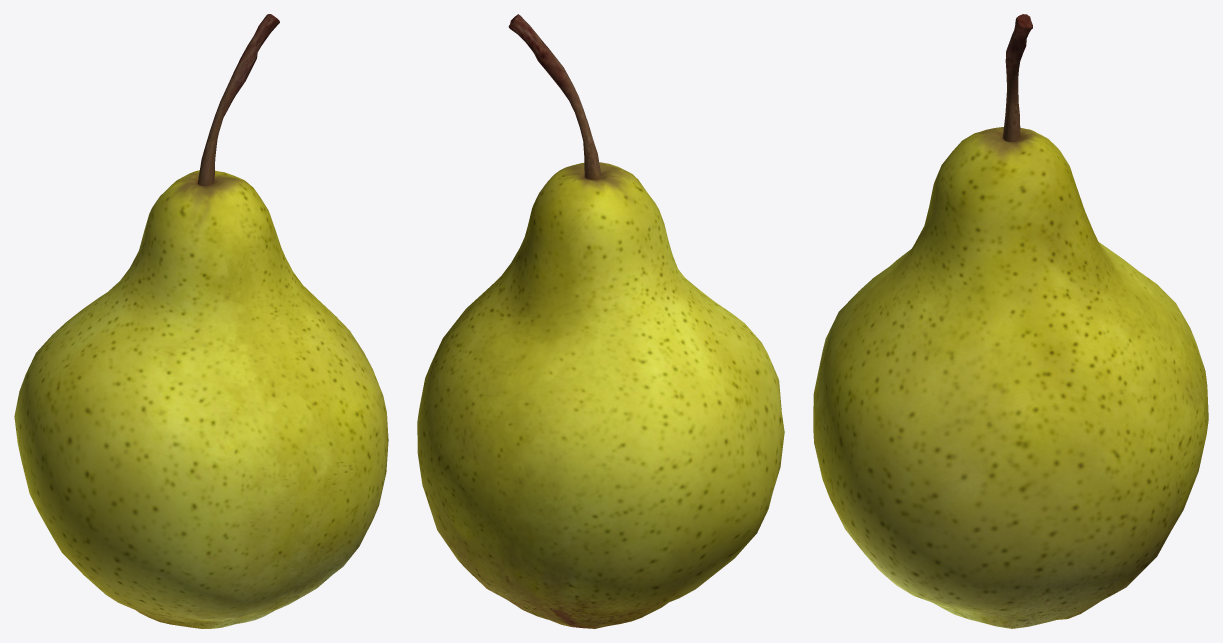
Rendered from pear.obj.
3 views of the same model, side by side, from view 1: azimuth 30°, elevation 25°; view 2: azimuth 150°, elevation 25°; view 3: azimuth 270°, elevation 25° (orthographic). The views are drawn at different scales.
Parts seen in each view (by area): view 1: pear.002_Cube.002; view 2: pear.002_Cube.002; view 3: pear.002_Cube.002.
Boxes of the visible parts, <box> form: pear.002_Cube.002: <box>14,14,388,628</box>; pear.002_Cube.002: <box>417,14,784,628</box>; pear.002_Cube.002: <box>813,14,1208,628</box>.
Bounding box in the file's own units: 3.29 × 5.72 × 3.26.
3 materials, 3 textured.
